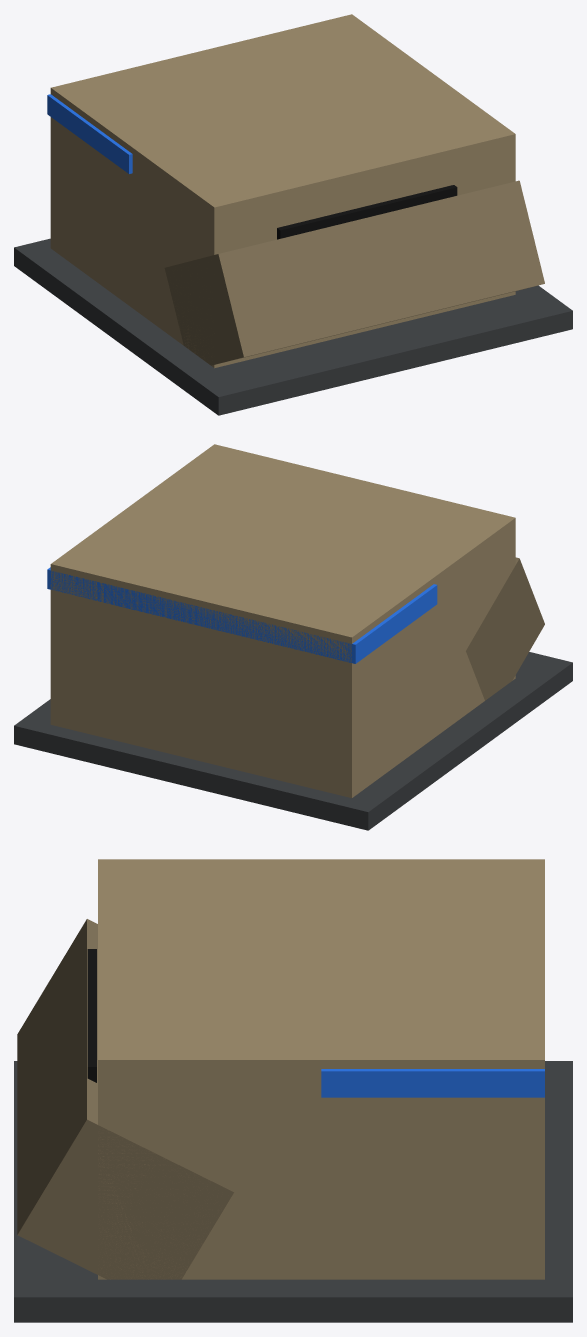
File: ae_fortified_post.glb
The picture shows the model from 3 angles, top to bottom: view 1: azimuth 30°, elevation 25°; view 2: azimuth 150°, elevation 25°; view 3: azimuth 270°, elevation 25°; orthographic projection. The views are drawn at different scales.
Visible parts, largest first — view 1: main, slope, base, slit, team_band; view 2: main, base, team_band, slope; view 3: main, slope, base, team_band, slit.
Part boxes in pixels (x1,y1,x2,y2): main: (50,14,515,368); slope: (164,180,544,365); base: (14,238,572,415); slit: (277,185,457,239); team_band: (47,94,132,173); main: (50,444,515,797); base: (14,652,572,830); team_band: (47,567,437,663); slope: (466,557,544,700); main: (98,859,544,1279); slope: (17,919,233,1279); base: (14,1061,572,1322); team_band: (321,1069,544,1097); slit: (87,949,96,1082).
Bounding box in the file's own units: 6 × 2.94 × 6.
